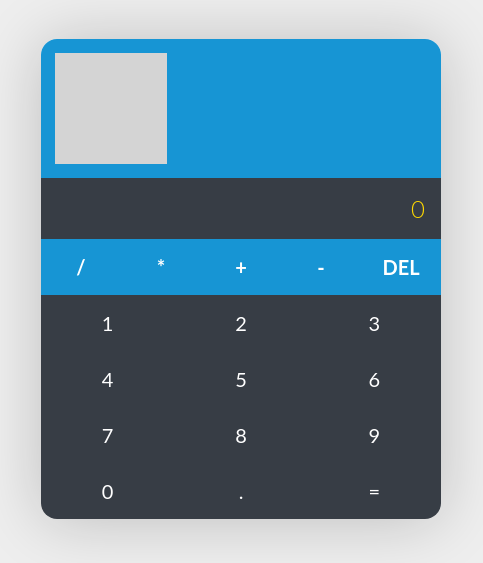
checks if multiplication functionality works
The width and height of the screenshot is (483, 563).
Click the button "3".
click(374, 323)  # box [308,295,441,351]
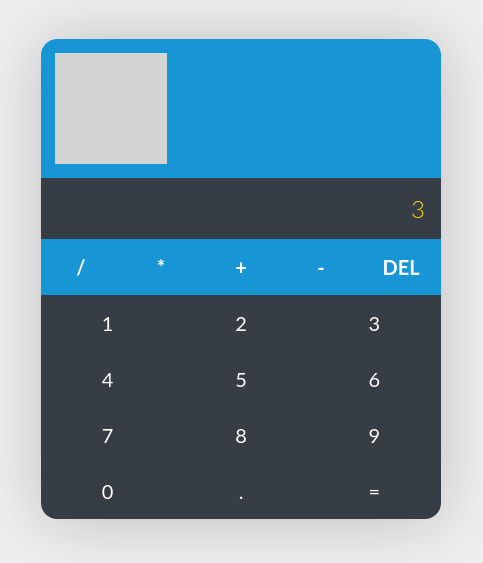
Click the button "*".
click(161, 267)  # box [121,239,201,295]
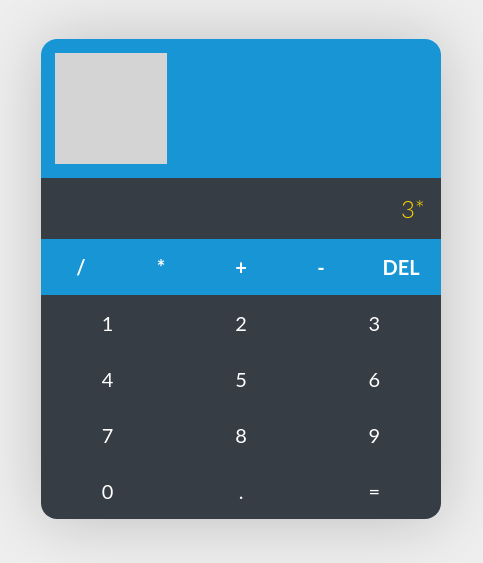
Click the button "3".
click(374, 323)  # box [308,295,441,351]
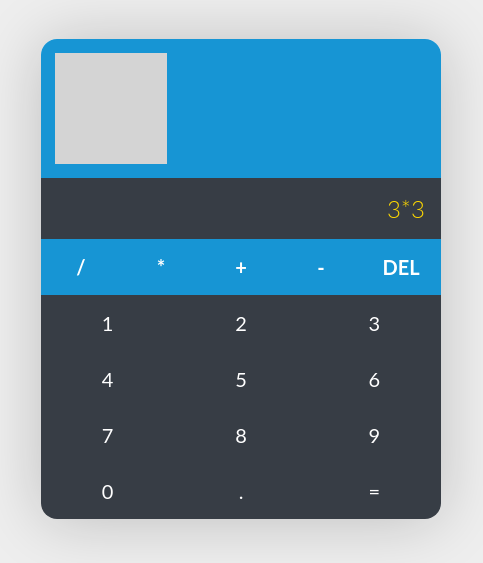
Click the button "=".
click(374, 491)  # box [308,463,441,519]
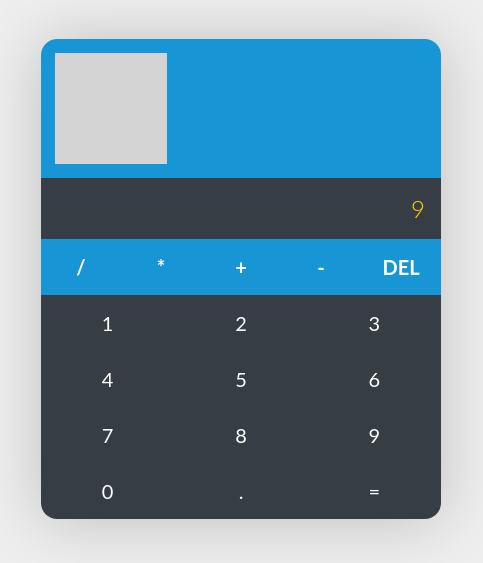
Check: the text with class "display" reads "9", box [411,194,425,223]
